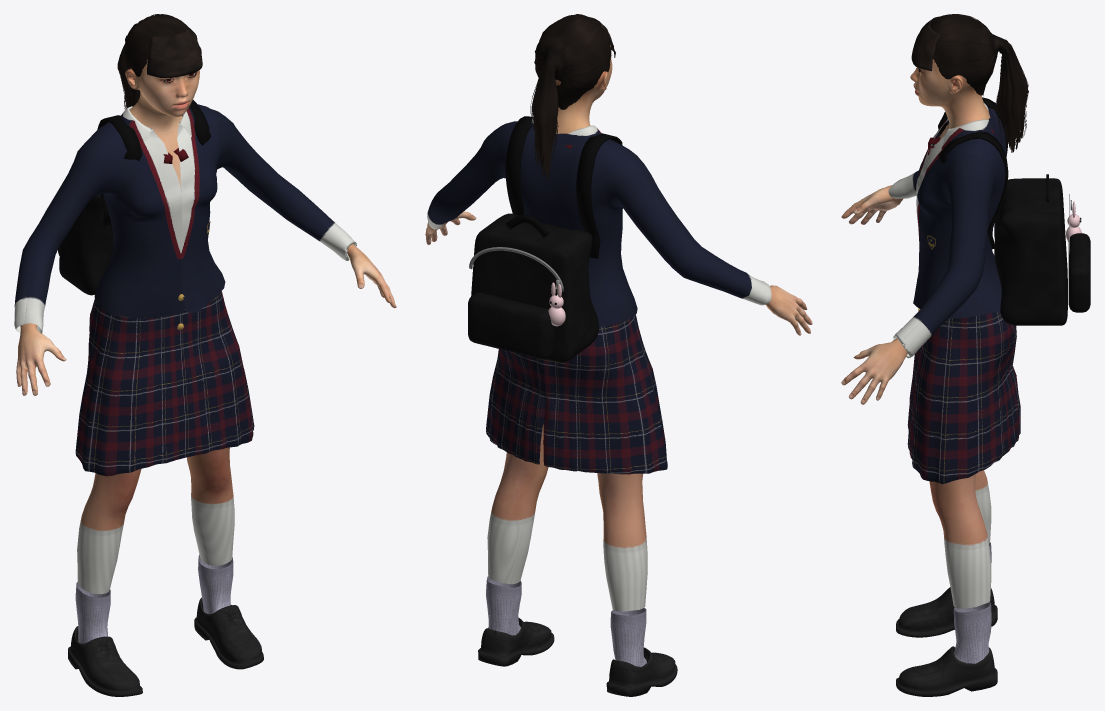
Rendered from mina.obj.
3 views of the same model, side by side, from view 1: azimuth 30°, elevation 25°; view 2: azimuth 150°, elevation 25°; view 3: azimuth 270°, elevation 25° (orthographic). The views are drawn at different scales.
Parts seen in each view (by area): view 1: Mina_Suit, Mina_Body, Mina_Shoes, Mina_Backpack, Mina_Hair, Mina_Bangs, Mina_Strap_R; view 2: Mina_Suit, Mina_Body, Mina_Backpack, Mina_Shoes, Mina_Hair, Mina_BackpackPocket, Mina_Strap_R, Mina_Strap_L; view 3: Mina_Suit, Mina_Body, Mina_Backpack, Mina_Shoes, Mina_Hair, Mina_BackpackPocket, Mina_Strap_L, Mina_Bangs.
Boxes of the visible parts, x1=… form: Mina_Suit: x1=14, y1=104, x2=356, y2=476; Mina_Body: x1=16, y1=59, x2=396, y2=594; Mina_Shoes: x1=68, y1=554, x2=263, y2=696; Mina_Backpack: x1=59, y1=195, x2=113, y2=295; Mina_Hair: x1=117, y1=14, x2=192, y2=109; Mina_Bangs: x1=147, y1=28, x2=202, y2=78; Mina_Strap_R: x1=97, y1=115, x2=142, y2=226; Mina_Suit: x1=427, y1=118, x2=771, y2=474; Mina_Body: x1=425, y1=45, x2=812, y2=611; Mina_Backpack: x1=471, y1=213, x2=598, y2=362; Mina_Shoes: x1=478, y1=576, x2=677, y2=696; Mina_Hair: x1=530, y1=14, x2=611, y2=179; Mina_BackpackPocket: x1=468, y1=292, x2=554, y2=359; Mina_Strap_R: x1=576, y1=133, x2=622, y2=258; Mina_Strap_L: x1=505, y1=116, x2=532, y2=215; Mina_Suit: x1=888, y1=103, x2=1020, y2=484; Mina_Body: x1=841, y1=59, x2=991, y2=608; Mina_Backpack: x1=994, y1=178, x2=1067, y2=325; Mina_Shoes: x1=896, y1=542, x2=997, y2=696; Mina_Hair: x1=930, y1=14, x2=1028, y2=152; Mina_BackpackPocket: x1=1068, y1=233, x2=1090, y2=312; Mina_Strap_L: x1=938, y1=131, x2=1008, y2=248; Mina_Bangs: x1=911, y1=16, x2=940, y2=70.
Size of the model in its own units: 0.9817 by 1.63 by 0.571.
